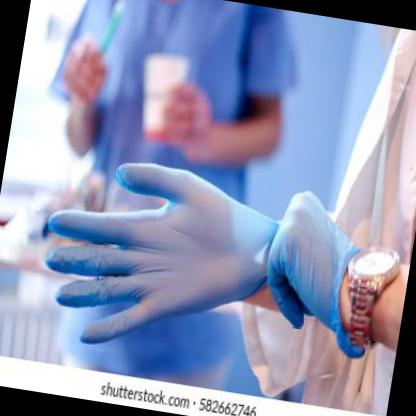Gloves: (29, 147, 284, 370), (254, 185, 388, 360)
